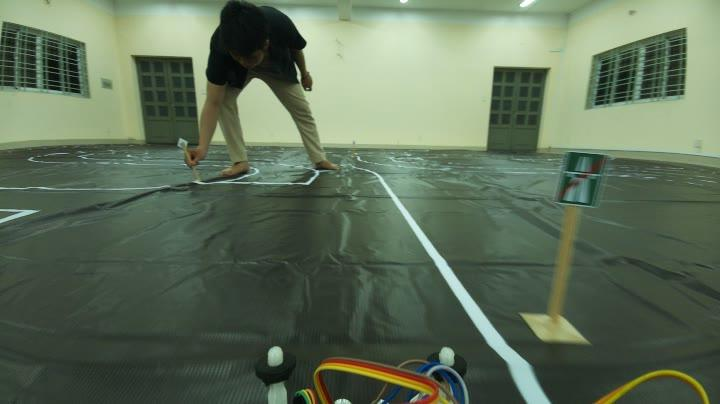highway_exit: (560, 148, 608, 218)
